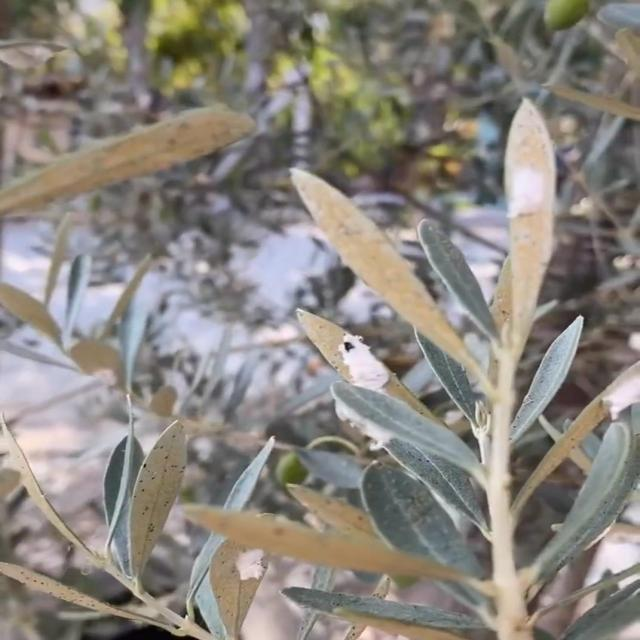Psyllid: (296, 308, 414, 400), (209, 542, 267, 640)
